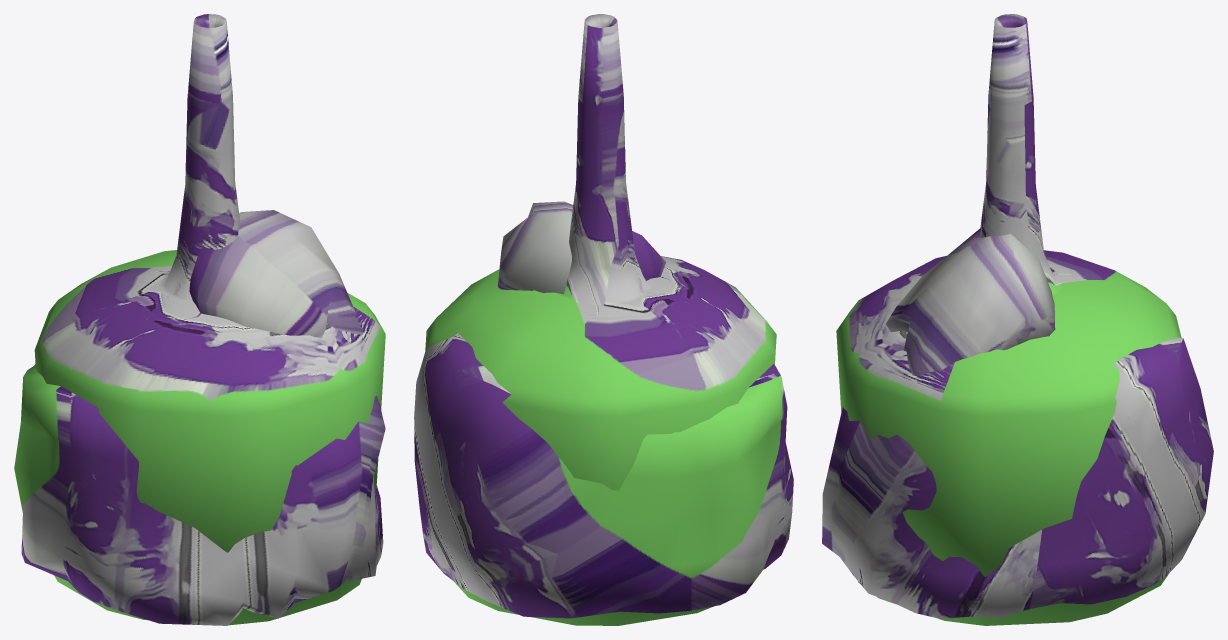
Rendered from azot_drink.fbx.
3 views of the same model, side by side, from view 1: azimuth 30°, elevation 25°; view 2: azimuth 150°, elevation 25°; view 3: azimuth 270°, elevation 25° (orthographic).
Visible parts, largest first — view 1: Torus.006; view 2: Torus.006; view 3: Torus.006.
Part boxes in pixels (x1,y1,x2,y2): Torus.006: [14, 14, 385, 625]; Torus.006: [414, 14, 793, 625]; Torus.006: [822, 14, 1213, 625].
Size of the model in its own units: 74.63 by 116 by 76.68.
